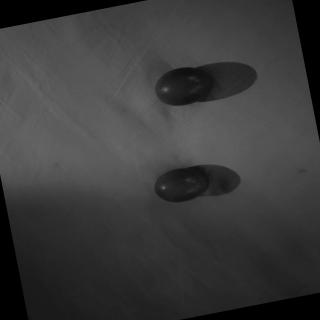Telur: (152, 60, 222, 114), (150, 161, 217, 210)
